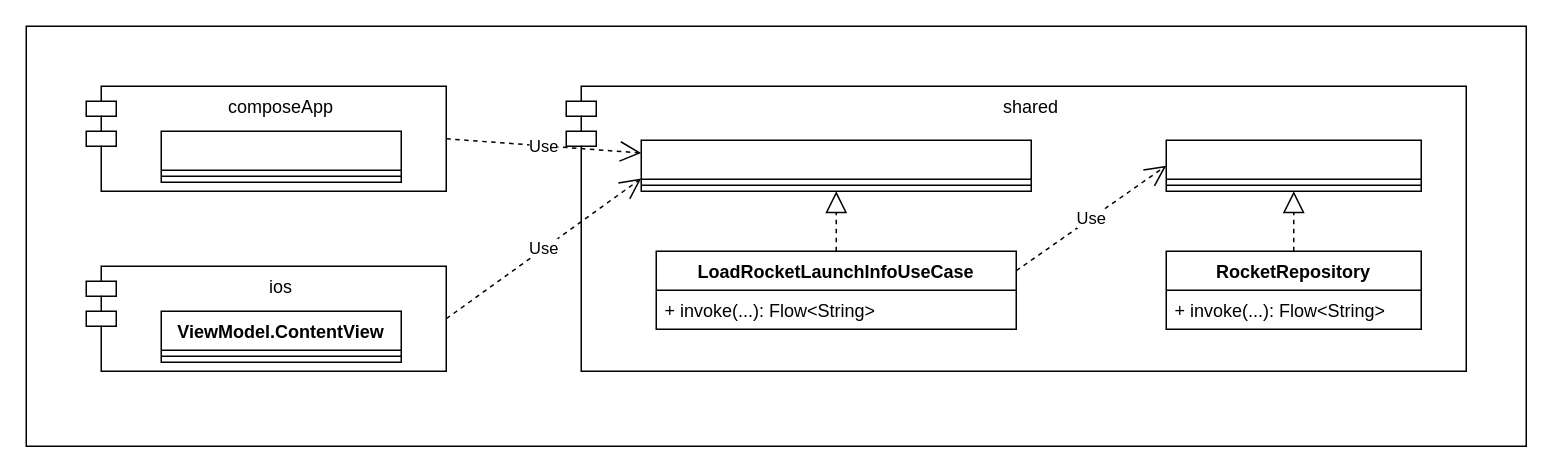
Image size: 1553x473. Some labels were removed from this diagram. Each missing label, with the centre of its shape:
LoadRocketLaunchInfoUseCaseContract: pixel 835 165
RocketLaunchViewModel: pixel 280 156
RocketRepositoryContract: pixel 1293 165
